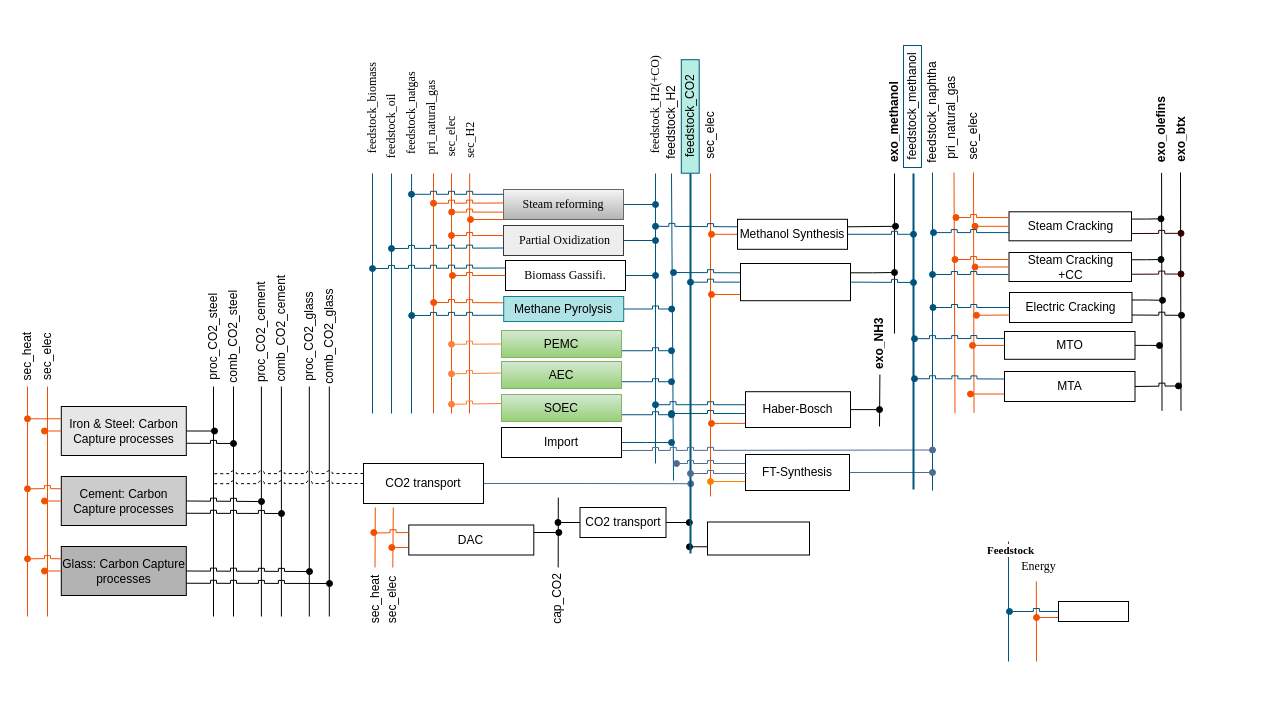
This 1263x718 diagram has some shape labels left out. Here are the shapes that lost their labels. From the top down, the box of each, then its label:
(740, 262, 850, 301): Methanol hydrogenation
(706, 521, 810, 555): Carbon storage
(1058, 600, 1128, 622): Process
